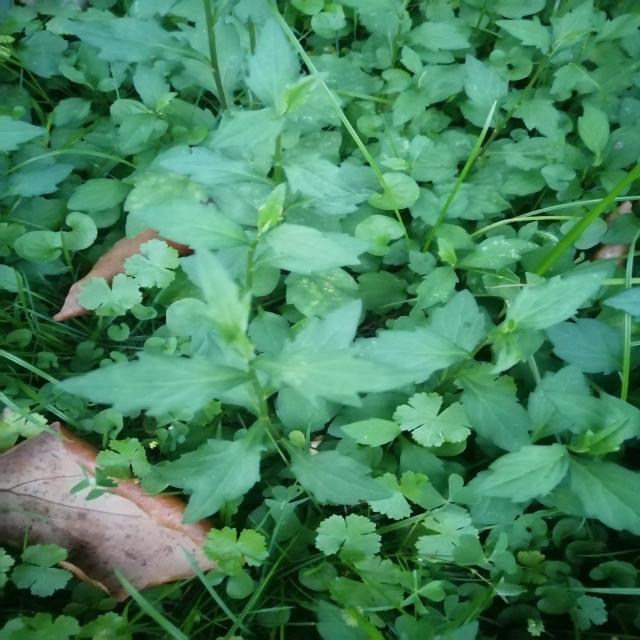Indian aster: (61, 261, 438, 478), (452, 333, 636, 546)
